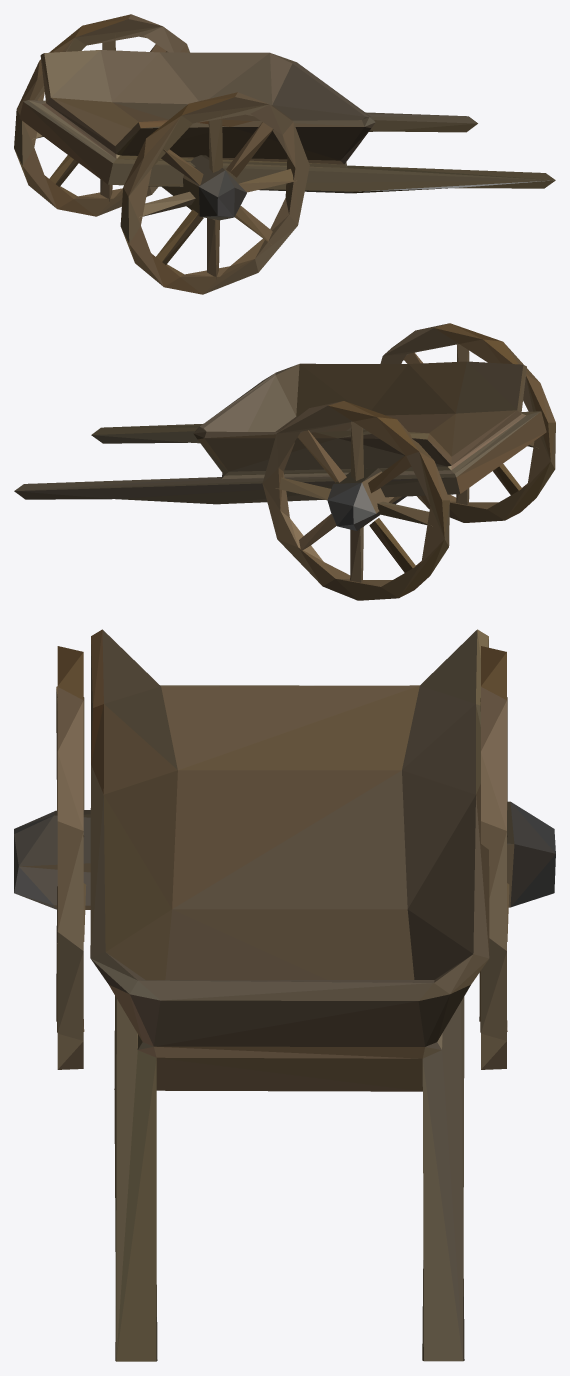
Rendered from cart_seperated.fbx.
3 views of the same model, one above another, from view 1: azimuth 30°, elevation 25°; view 2: azimuth 150°, elevation 25°; view 3: azimuth 270°, elevation 25° (orthographic). The views are drawn at different scales.
Visible parts, largest first — view 1: Prop-Cart, Prop-Cart.001, Prop-Cart.003, Prop-Cart.002, Prop-Cart.004, Prop-Cart.005, Prop-Cart.007; view 2: Prop-Cart, Prop-Cart.001, Prop-Cart.003, Prop-Cart.002, Prop-Cart.004, Prop-Cart.005; view 3: Prop-Cart.001, Prop-Cart.002, Prop-Cart, Prop-Cart.003, Prop-Cart.005.
Part boxes in pixels (<box>): Prop-Cart: <box>14,14,370,294</box>; Prop-Cart.001: <box>31,50,365,162</box>; Prop-Cart.003: <box>19,100,555,216</box>; Prop-Cart.002: <box>40,53,375,160</box>; Prop-Cart.004: <box>23,100,477,193</box>; Prop-Cart.005: <box>272,53,368,119</box>; Prop-Cart.007: <box>28,100,339,167</box>; Prop-Cart: <box>205,323,555,600</box>; Prop-Cart.001: <box>204,361,540,471</box>; Prop-Cart.003: <box>14,411,546,529</box>; Prop-Cart.002: <box>193,365,526,479</box>; Prop-Cart.004: <box>14,413,537,499</box>; Prop-Cart.005: <box>200,364,425,439</box>; Prop-Cart.001: <box>102,630,477,980</box>; Prop-Cart.002: <box>90,629,489,1091</box>; Prop-Cart: <box>14,644,555,1069</box>; Prop-Cart.003: <box>114,996,464,1361</box>; Prop-Cart.005: <box>107,631,488,982</box>.
Size of the model in its own units: 550 by 224 by 290.
